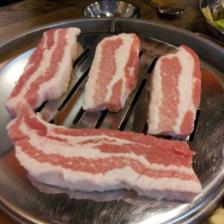meat: (6, 97, 203, 201), (9, 26, 80, 107), (147, 45, 202, 137), (82, 33, 141, 112)
